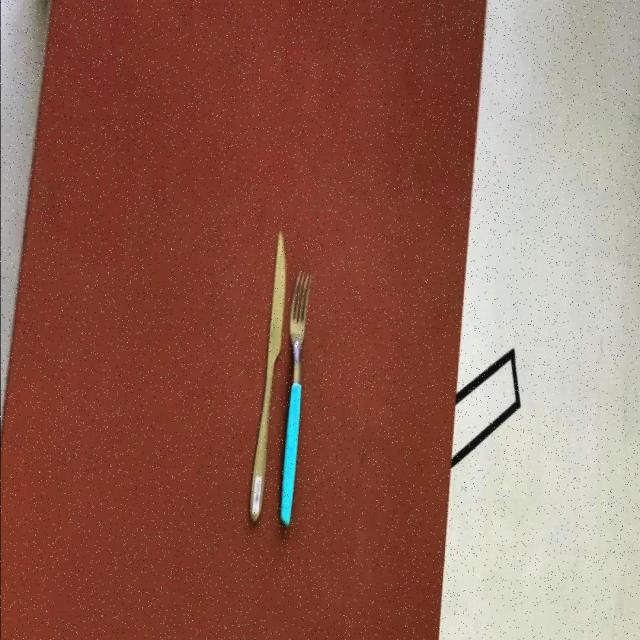Fork: (279, 271, 313, 530)
Knife: (249, 232, 287, 526), (279, 270, 313, 530)
